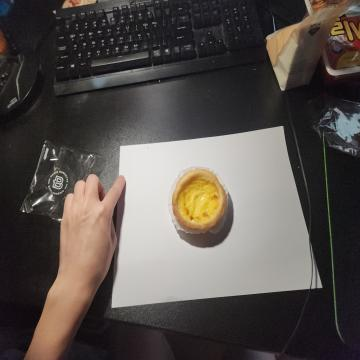EggTart: (172, 165, 228, 235)
